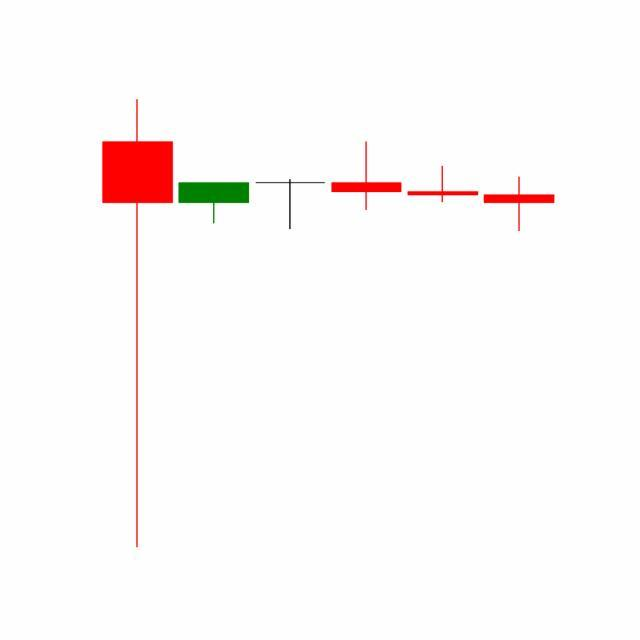Gravestone Doji: (404, 165, 482, 204)
